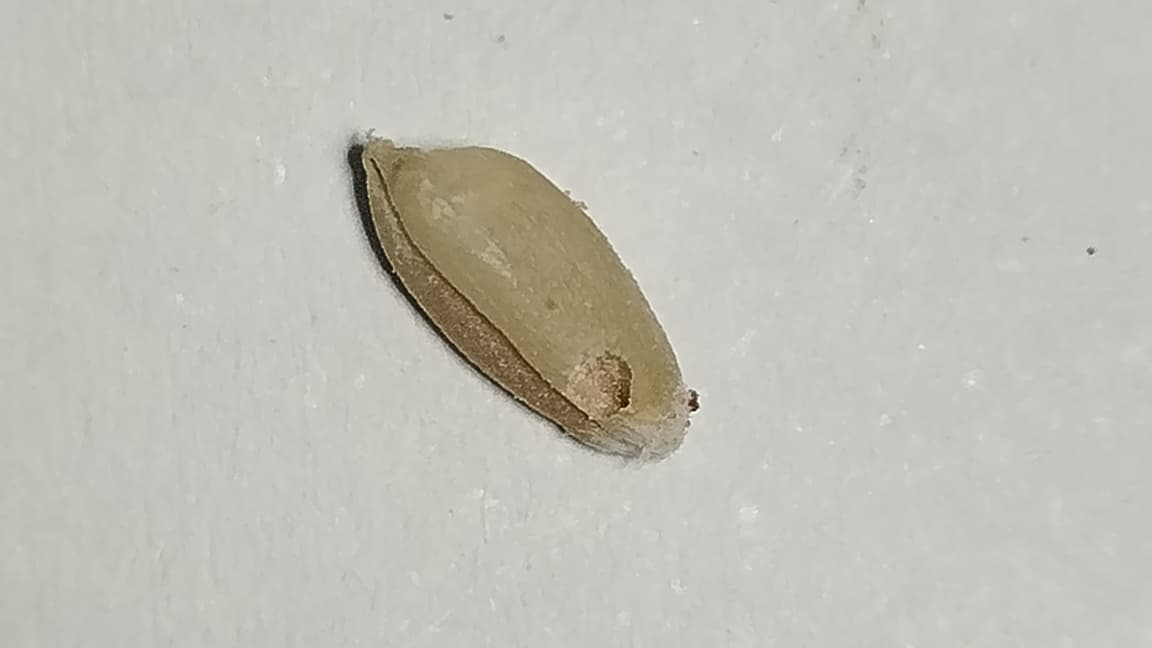damage: (353, 131, 696, 459)
insectdamage: (554, 335, 654, 458)
